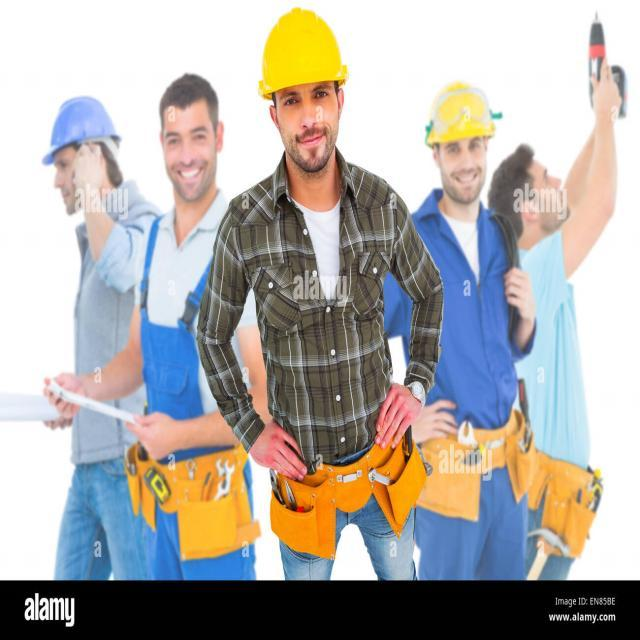safetyhelmet: (255, 1, 357, 177)
